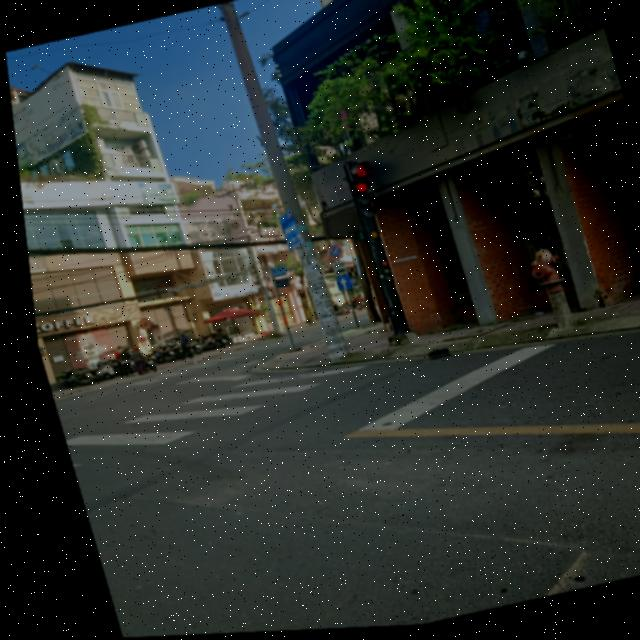Red: (340, 178, 377, 230), (367, 256, 394, 288)
